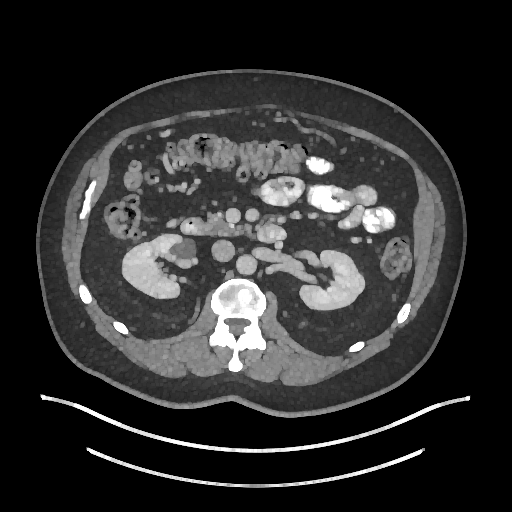Lesion: (167, 236, 201, 263)
